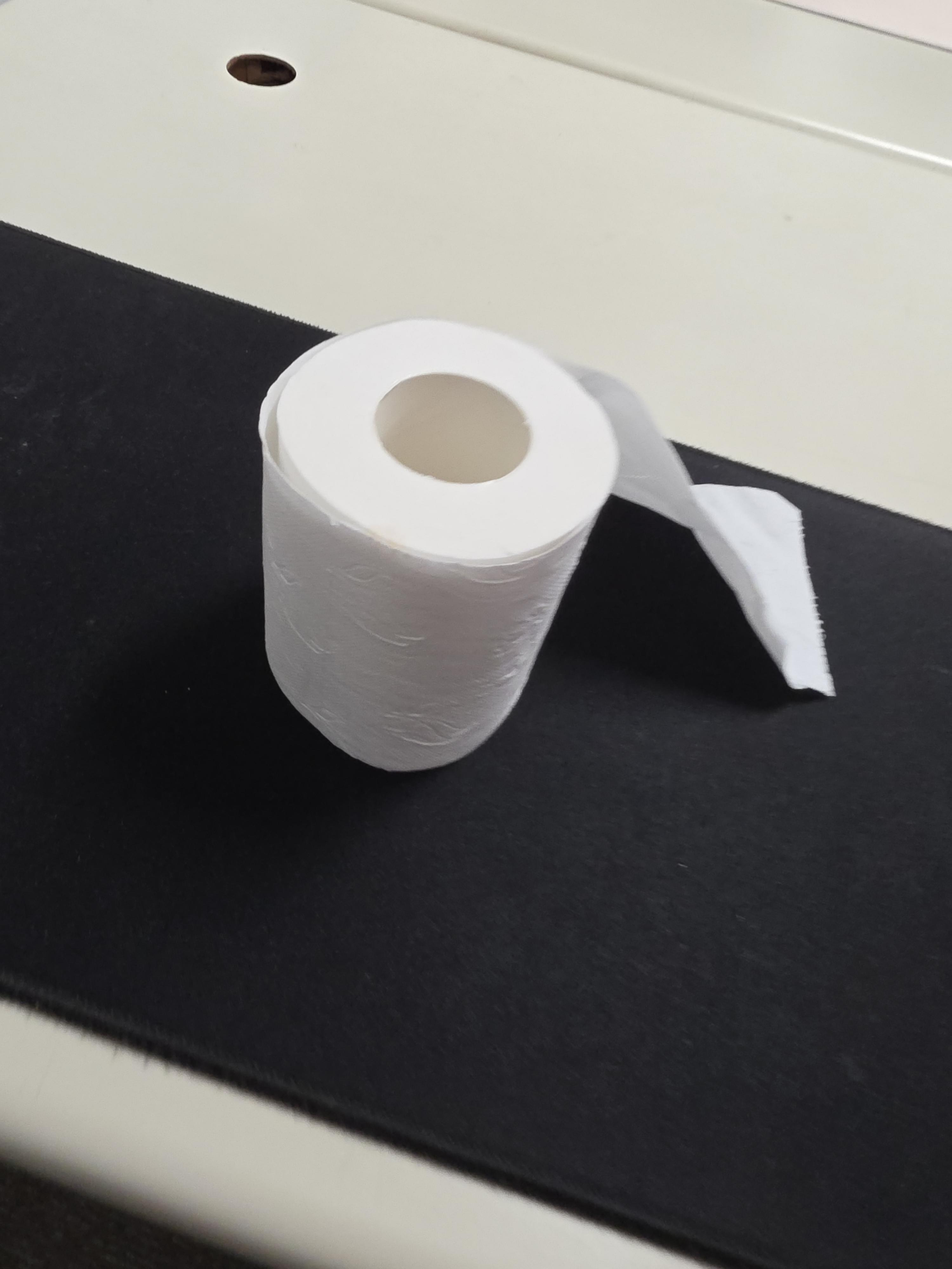tissue: (258, 319, 837, 772)
